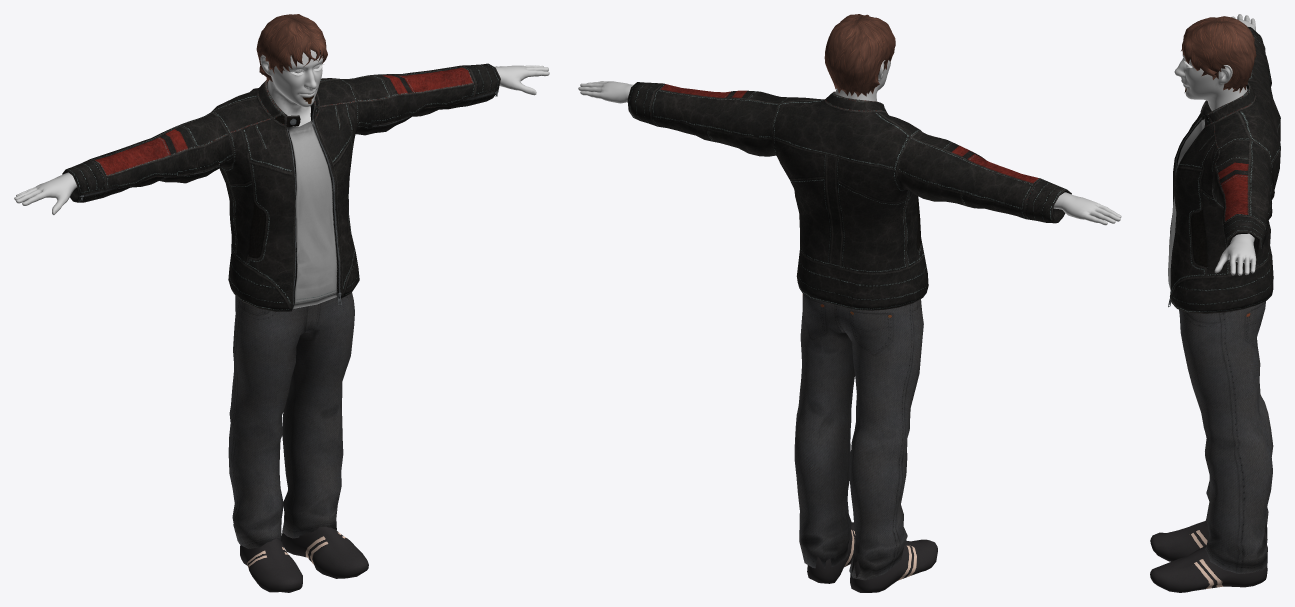
The model's file is erkek.obj.
3 views of the same model, side by side, from view 1: azimuth 30°, elevation 25°; view 2: azimuth 150°, elevation 25°; view 3: azimuth 270°, elevation 25° (orthographic).
Visible parts, largest first — view 1: Tops, Bottoms, Shoes, Body, Hair; view 2: Tops, Bottoms, Hair, Shoes, Body; view 3: Tops, Bottoms, Shoes, Hair, Body.
Boxes of the visible parts, x1,y1,x2,y2 form: Tops: (62,63,500,311); Bottoms: (228,293,354,548); Shoes: (240,526,368,592); Body: (14,49,549,215); Hair: (256,14,327,81); Tops: (627,82,1071,310); Bottoms: (794,294,923,580); Hair: (824,14,895,96); Shoes: (807,522,937,592); Body: (578,60,1121,225); Tops: (1168,26,1280,313); Bottoms: (1179,301,1273,573); Shoes: (1150,521,1267,592); Hair: (1181,16,1256,92); Body: (1174,14,1256,275).
Bounding box in the file's own units: 184 × 181 × 38.83.
